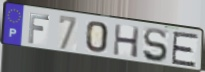0: (85, 20, 110, 55)
7: (57, 14, 80, 52)
E: (170, 31, 201, 69)
F: (27, 12, 51, 45)
H: (112, 23, 142, 60)
S: (142, 27, 169, 64)
